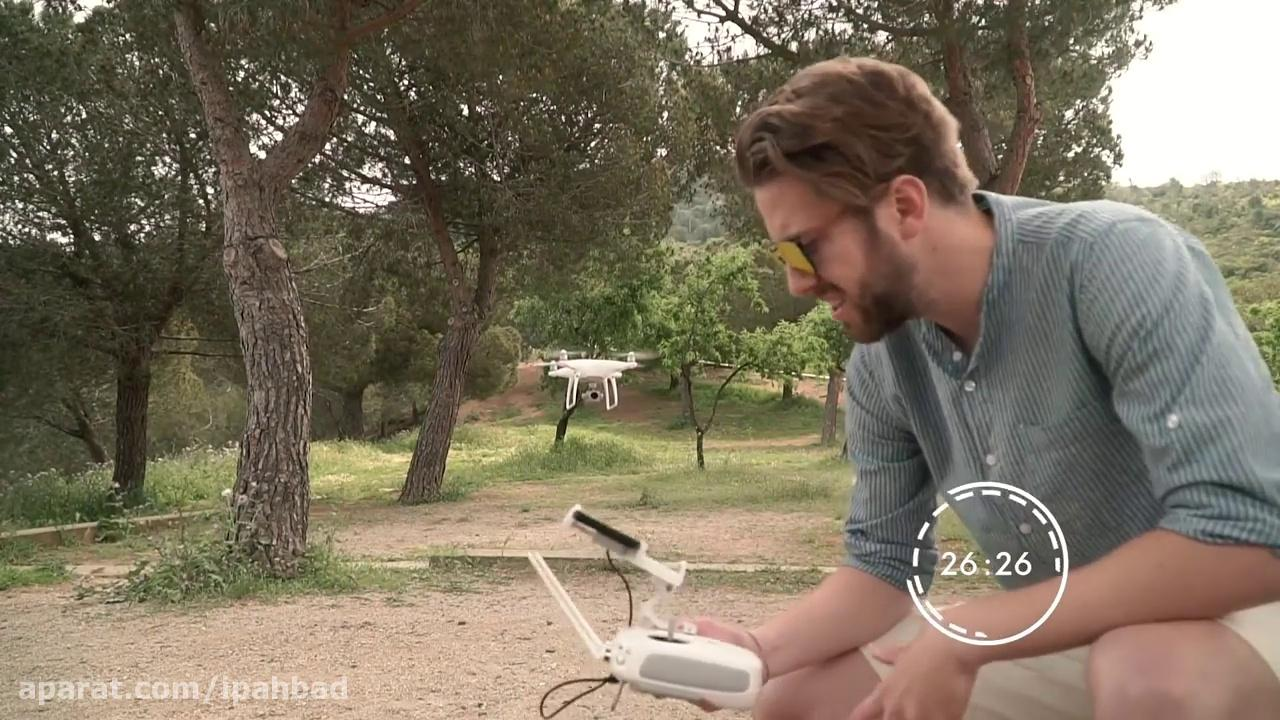drone: (528, 341, 667, 412)
